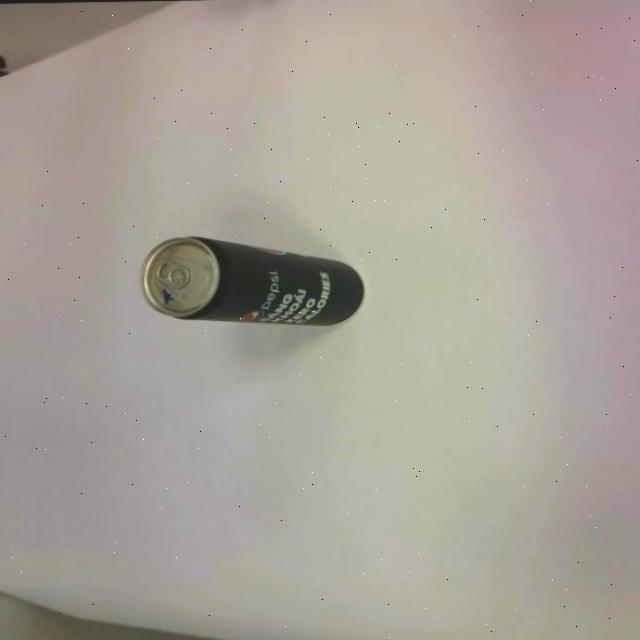debris: (138, 231, 365, 329)
